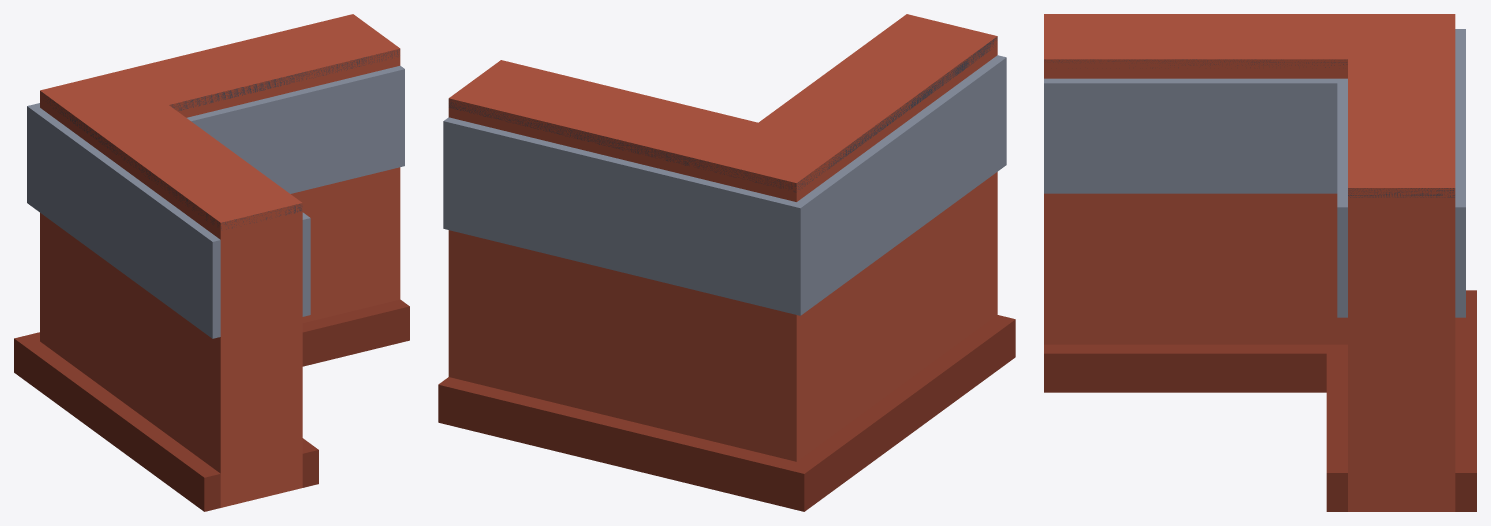
The model's file is partition-elbow.glb.
The picture shows the model from 3 angles, left to right: view 1: azimuth 30°, elevation 25°; view 2: azimuth 150°, elevation 25°; view 3: azimuth 270°, elevation 25°; orthographic projection. The views are drawn at different scales.
Parts seen in each view (by area): view 1: partition-elbow; view 2: partition-elbow; view 3: partition-elbow.
Part boxes in pixels (x1,y1,x2,y2): partition-elbow: [14, 14, 409, 511]; partition-elbow: [438, 14, 1015, 511]; partition-elbow: [1044, 14, 1476, 511].
Bounding box in the file's own units: 0.605 × 0.5 × 0.605.
1 material, 1 textured.
